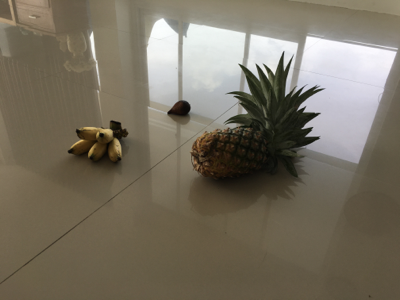banana: (68, 120, 130, 164)
pineapple: (191, 51, 326, 183)
snake fruit: (168, 99, 193, 118)
